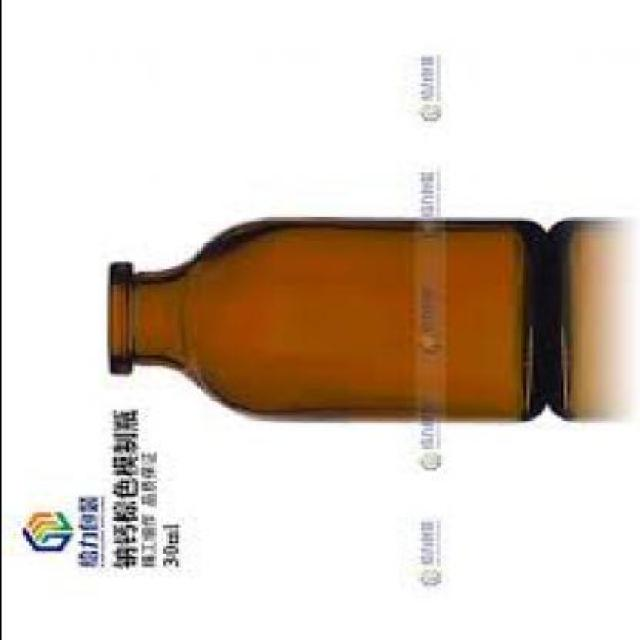glass: (103, 226, 554, 426)
